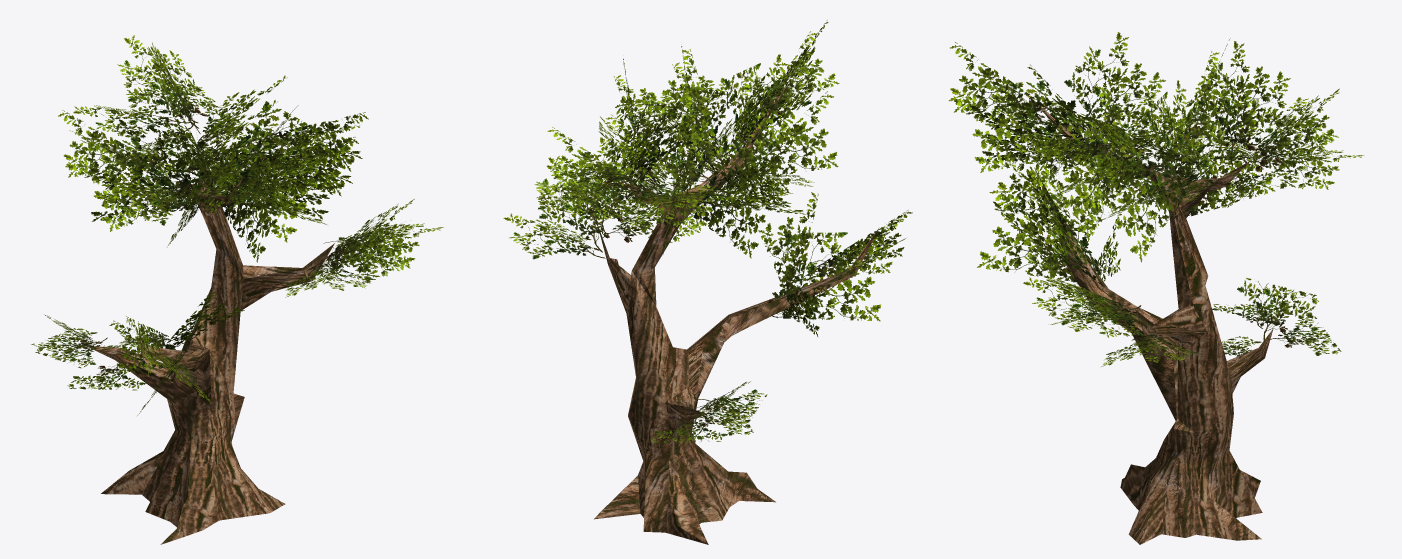
The model's file is Fantasy_Tree1_lod2.fbx.
3 renders of one model, left to right at view 1: azimuth 30°, elevation 25°; view 2: azimuth 150°, elevation 25°; view 3: azimuth 270°, elevation 25°, orthographic. The views are drawn at different scales.
Parts seen in each view (by area): view 1: Mesh Object; view 2: Mesh Object; view 3: Mesh Object.
Part boxes in pixels (box(x1,y1,x2,y2)): Mesh Object: box(31, 35, 443, 544); Mesh Object: box(503, 20, 912, 544); Mesh Object: box(948, 32, 1364, 544).
Bounding box in the file's own units: 3.52 × 4.2 × 3.49.
